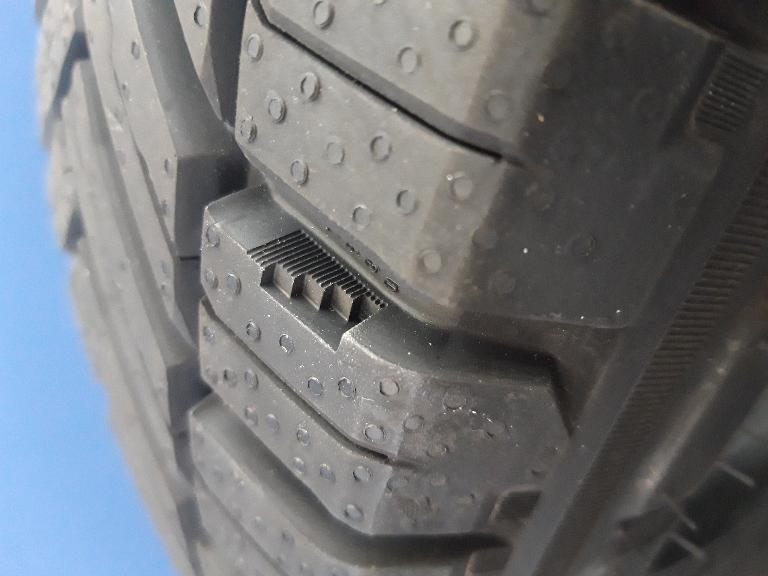temoin:100: (244, 227, 391, 356)
